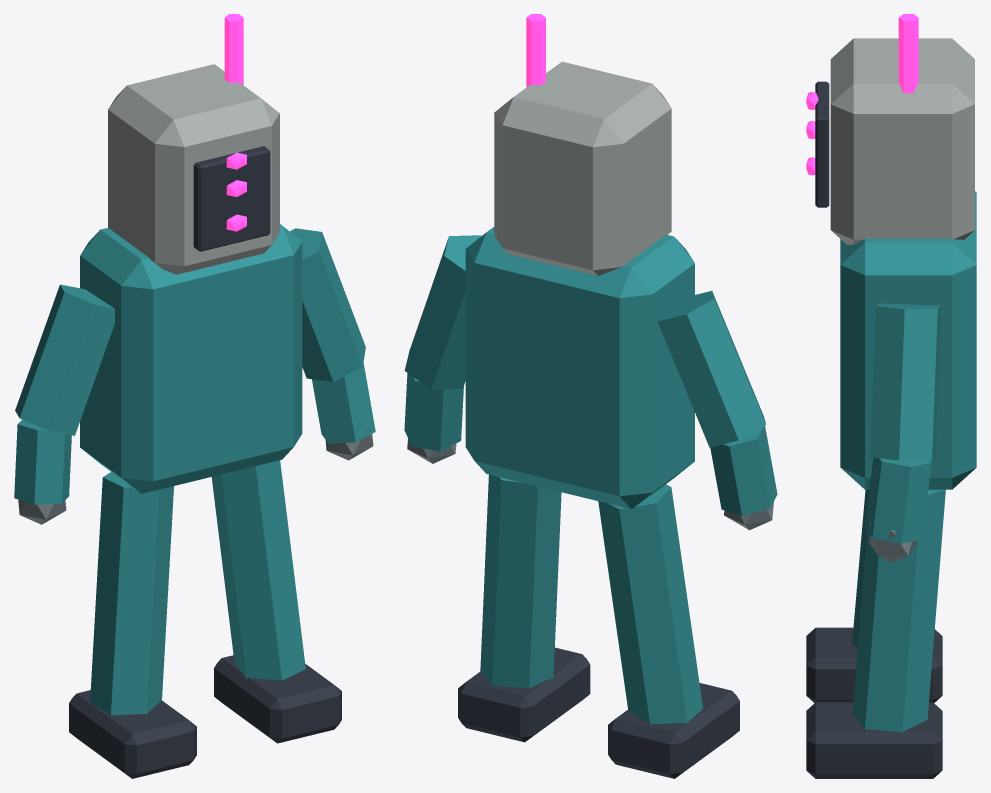
The model's file is npcs_026_seed78877.glb.
The picture shows the model from 3 angles, left to right: view 1: azimuth 30°, elevation 25°; view 2: azimuth 150°, elevation 25°; view 3: azimuth 270°, elevation 25°; orthographic projection. The views are drawn at different scales.
Parts seen in each view (by area): view 1: npcs_026_seed78877; view 2: npcs_026_seed78877; view 3: npcs_026_seed78877.
Boxes of the visible parts, x1,y1,x2,y2 form: npcs_026_seed78877: [14, 14, 375, 778]; npcs_026_seed78877: [404, 14, 777, 778]; npcs_026_seed78877: [806, 14, 976, 778].
Size of the model in its own units: 1.14 by 2.12 by 0.4486.
